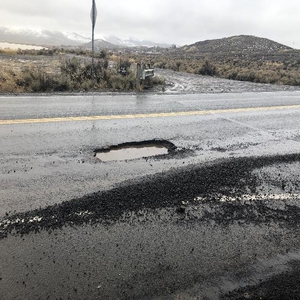pothole: (95, 136, 176, 162)
